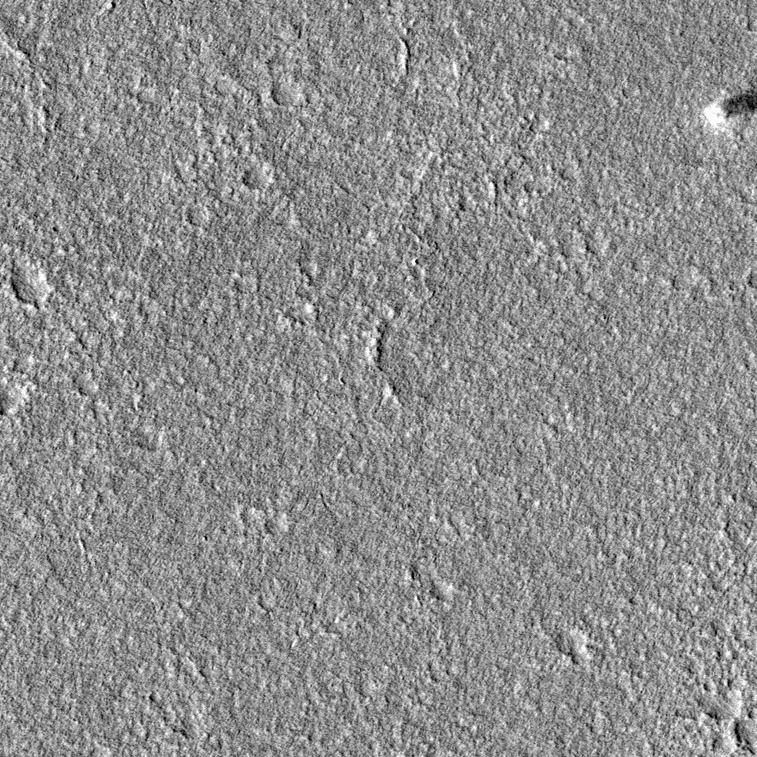dust_devil: (700, 87, 757, 130)
